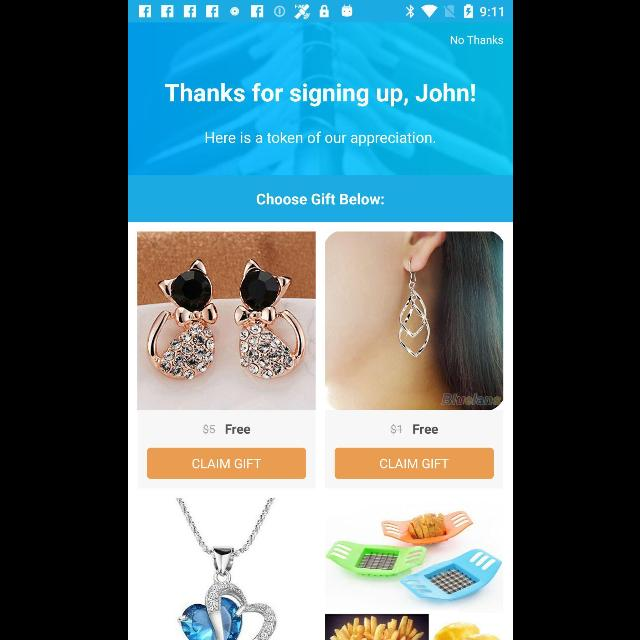image: (325, 232, 503, 410), (137, 232, 315, 410), (324, 510, 502, 640), (176, 498, 276, 640)
text: (163, 83, 474, 107), (204, 132, 436, 146), (255, 193, 382, 205), (450, 36, 502, 44), (412, 424, 438, 434), (224, 424, 250, 434), (202, 424, 215, 434), (390, 424, 402, 434)
textbutton: (333, 447, 492, 479), (147, 447, 306, 479)
uppertaskbar: (128, 1, 512, 23)
